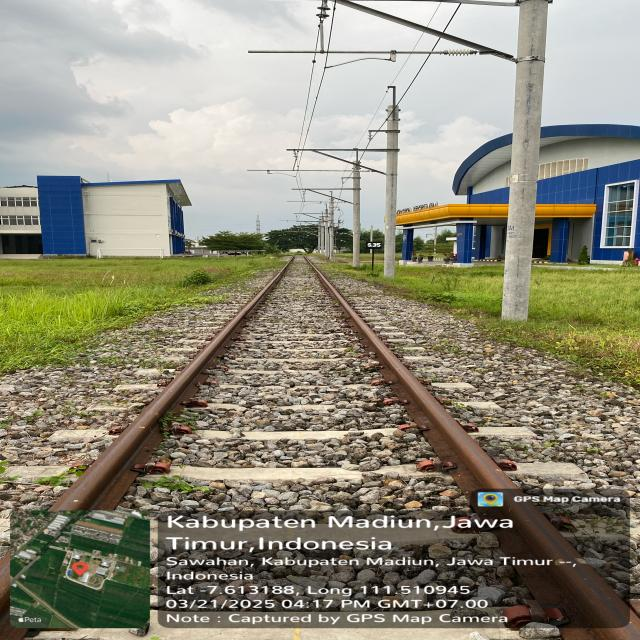rail-detection: (310, 265, 633, 637), (52, 262, 290, 511)
